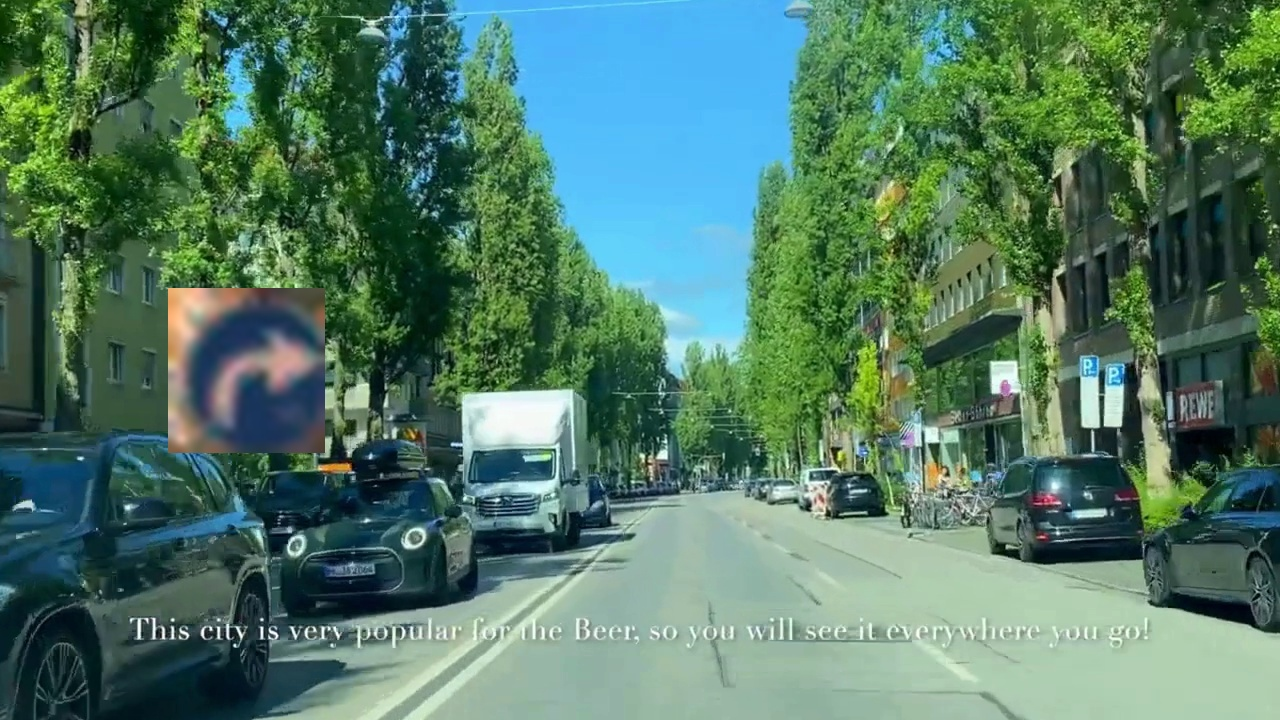Turn right: (168, 288, 325, 453)
